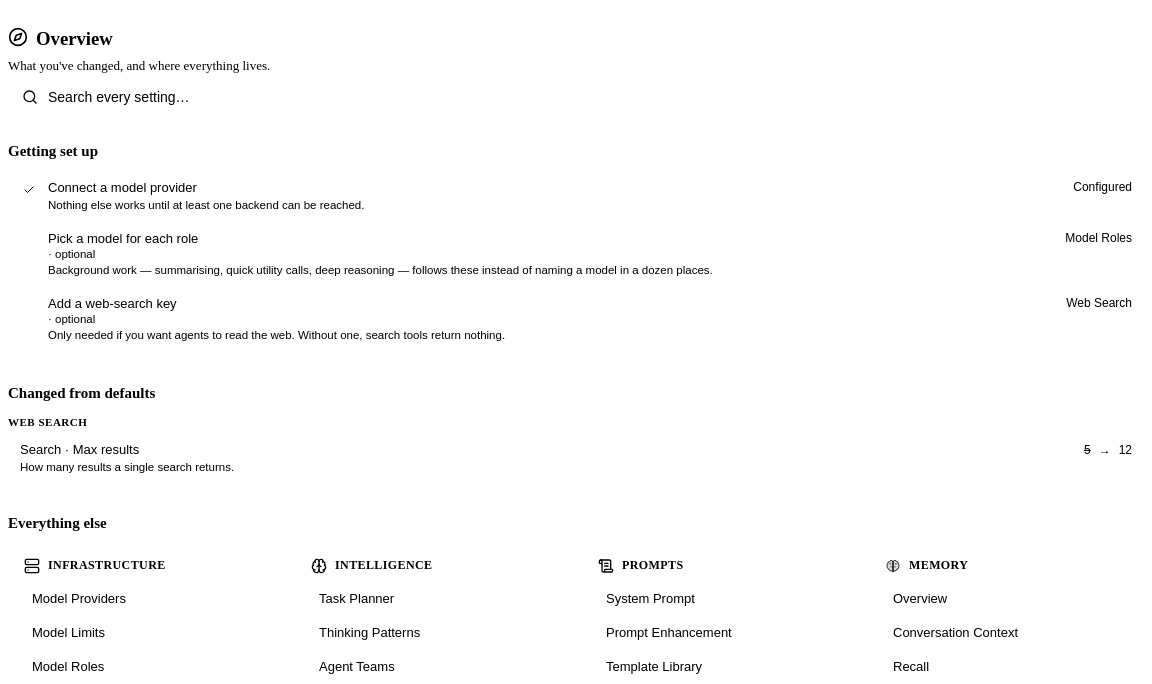
Test case: OverviewSection — search › says so when nothing matches
Expected: the heading "Changed from defaults 1" is shown, [8, 385, 190, 401]
Step 1. Type "zzzznotasetting" into the search field labelled "Search every setting" → (576, 97), box [8, 75, 1144, 119]
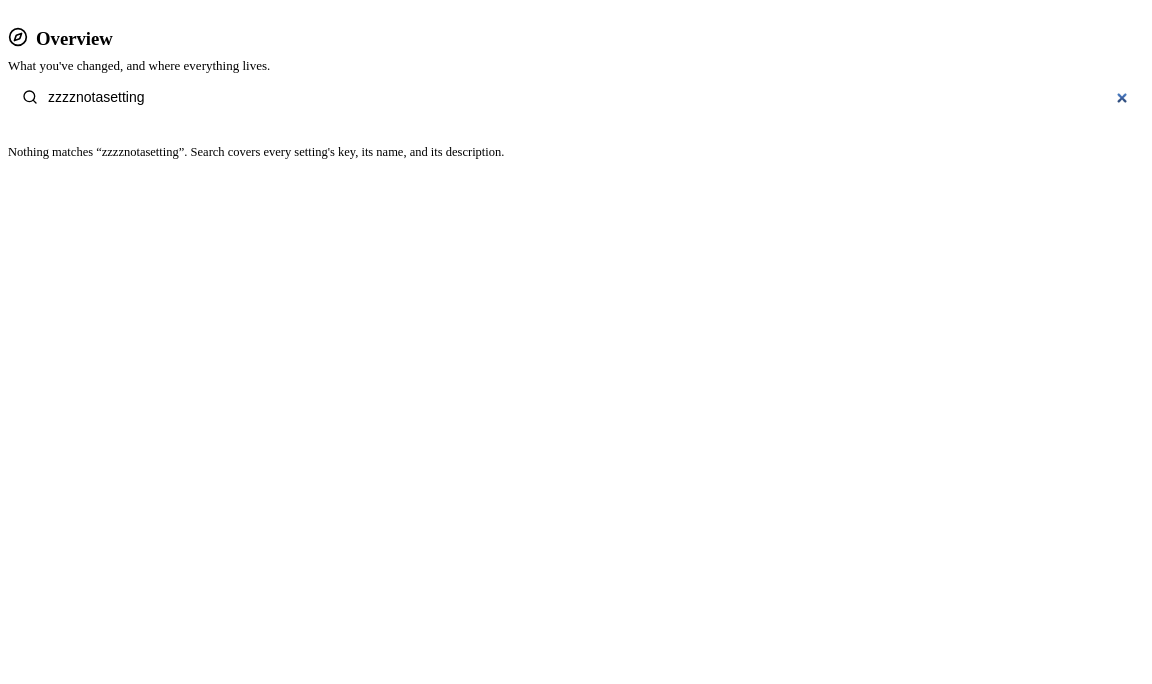
Expected: the text "Nothing matches" is shown, [8, 145, 102, 159]
